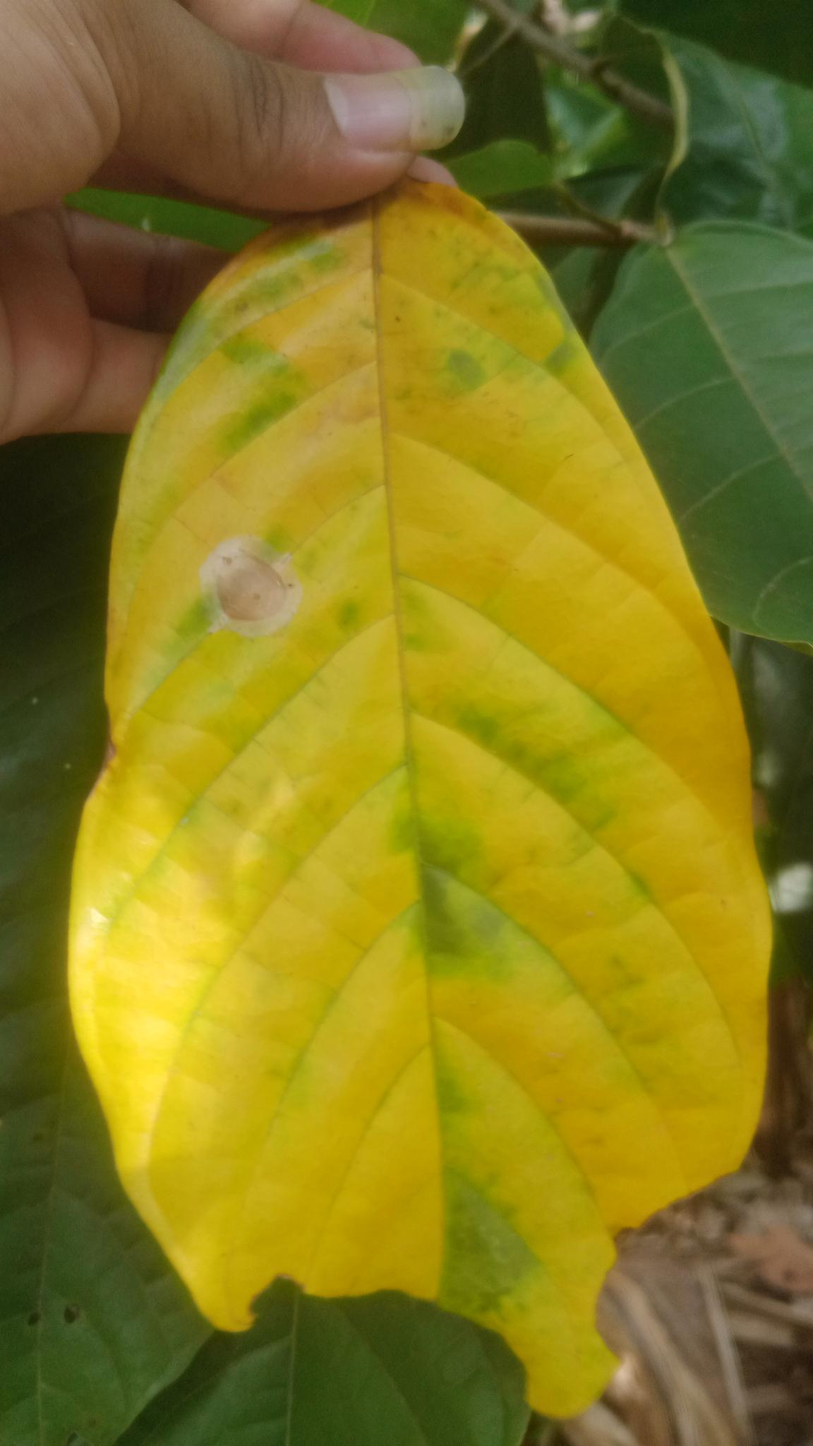Fosforo: (68, 164, 767, 1408)
